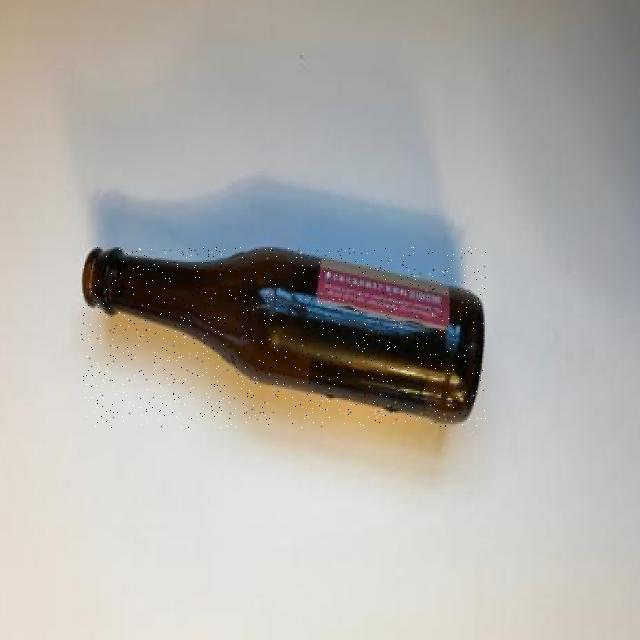glass: (81, 248, 486, 428)
